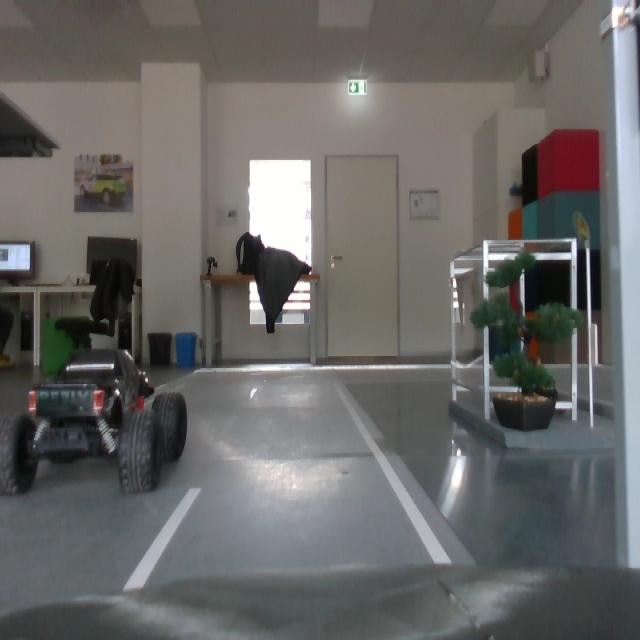car: (2, 341, 190, 495)
potted plant: (467, 249, 586, 395)
